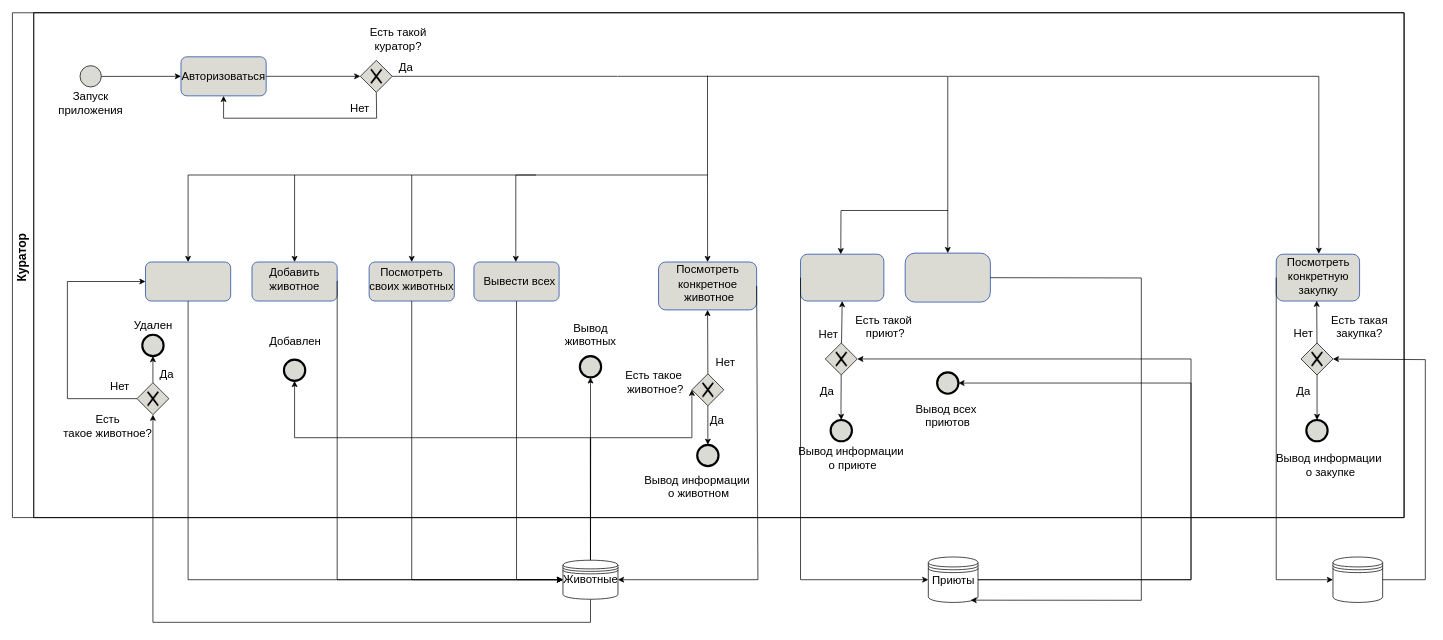
Image size: 1443x640. Some labels were removed from this diagram. The shapes that lost their labels are listed below. From the top down, each one's centre as x and y in pixels, then its label:
At point 188,281: "Убрать животное из своих".
At point 842,277: "Посмотреть конкретный приют".
At point 947,277: "Вывести данные всех приютов".
At point 1357,579: "Закупки".
